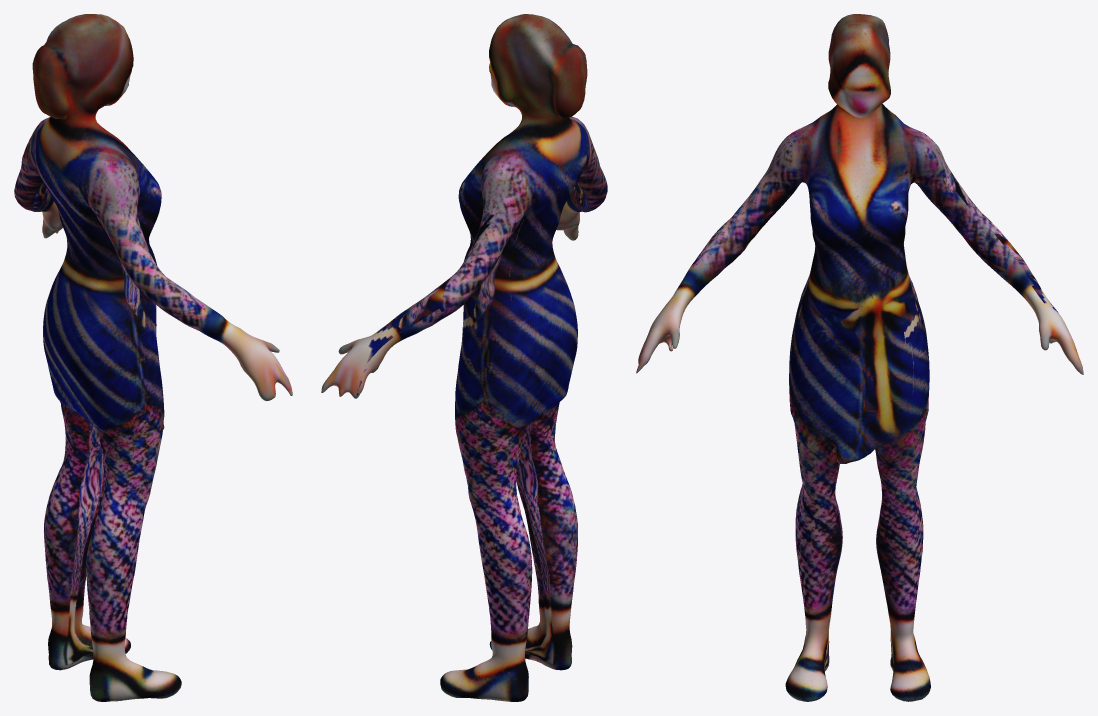
File: 1bac0b0fe9a6_NPC_tanning_women__.obj
3 views of the same model, side by side, from view 1: azimuth 30°, elevation 25°; view 2: azimuth 150°, elevation 25°; view 3: azimuth 270°, elevation 25° (orthographic).
Parts seen in each view (by area): view 1: mesh; view 2: mesh; view 3: mesh.
Boxes of the visible parts, x1,y1,x2,y2 form: mesh: (14, 14, 292, 701); mesh: (321, 14, 607, 701); mesh: (636, 14, 1083, 701).
Bounding box in the file's own units: 0.2347 × 0.9995 × 0.6177.
Materials: 1 (1 with a texture image).
